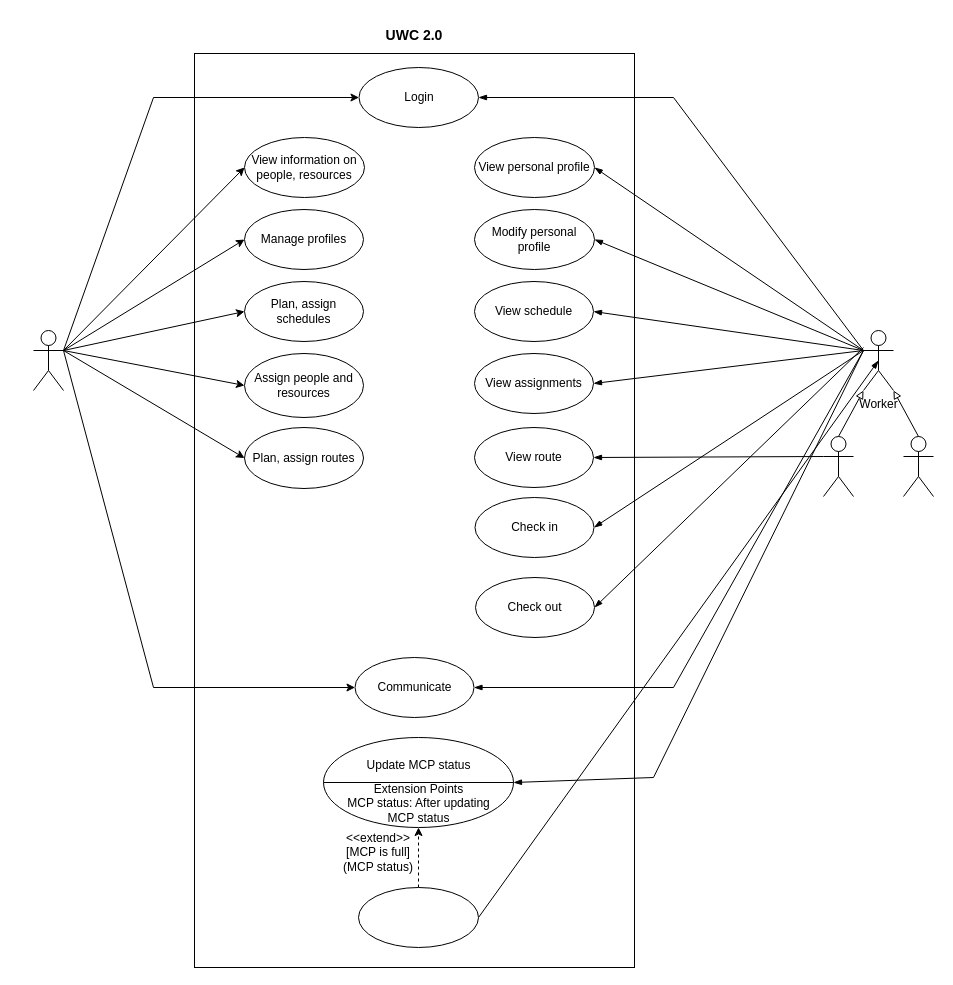
This 953x985 diagram has some shape labels left out. Each missing label, with the centre of its shape:
"Back officer" goes at (48,360).
"Collector" goes at (838,466).
"Janitor" goes at (918,466).
"Receive notification from full MCPs" goes at (418,917).
